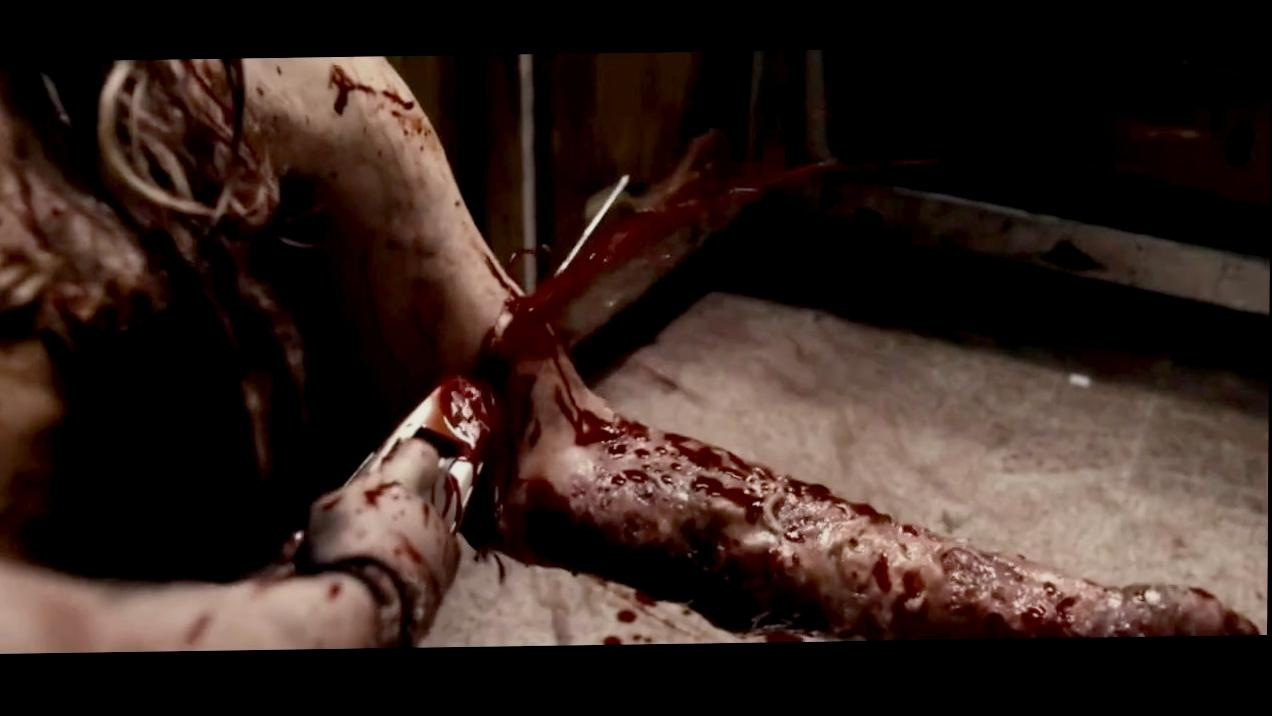Fire: (258, 132, 1261, 648), (330, 66, 436, 139), (600, 585, 664, 651), (185, 617, 212, 646)
